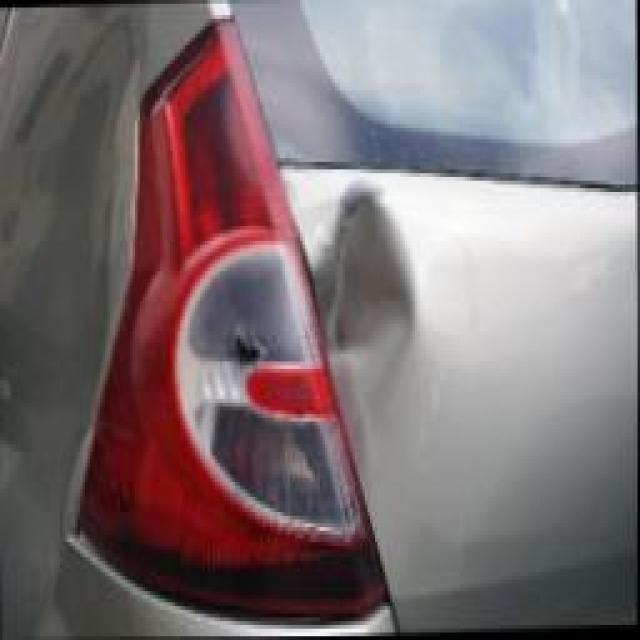Dickey: (312, 169, 524, 472)
Light: (95, 279, 299, 548)
